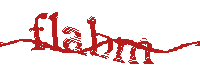a: (62, 27, 84, 54)
b: (87, 11, 113, 59)
f: (30, 11, 48, 53)
l: (48, 11, 63, 54)
m: (114, 37, 155, 65)
